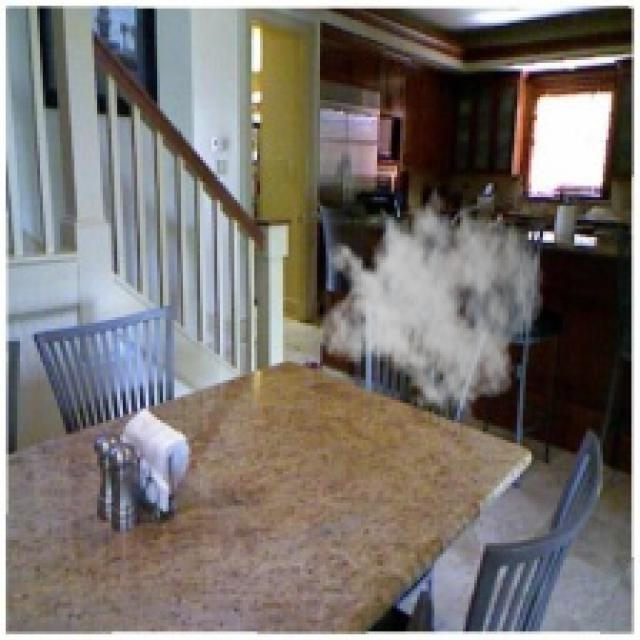smoke: (317, 174, 546, 420)
